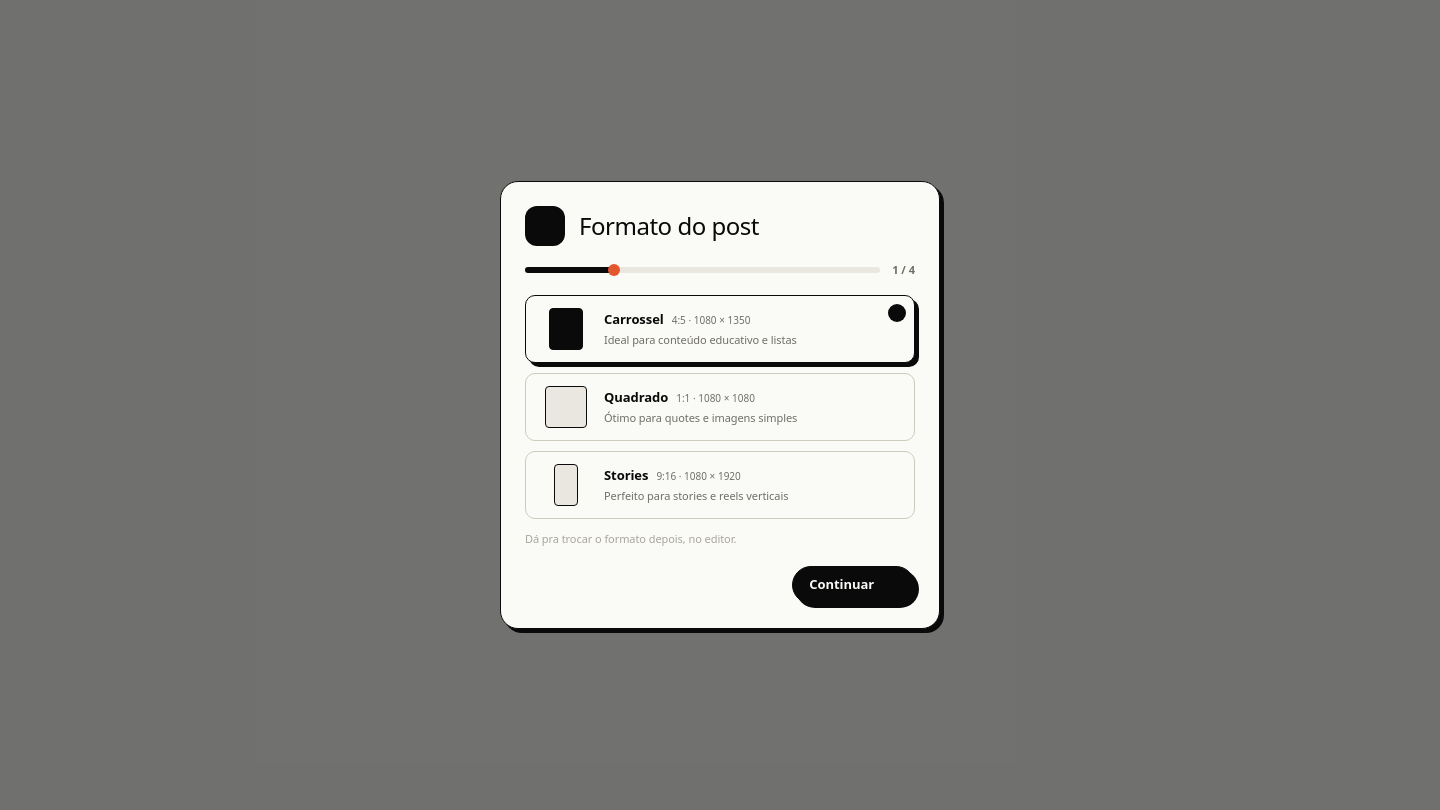
Scenario: TEMPLATE 2 no wizard › o Template 1 continua sem controle de quantidade — o deck dele é fechado
Click the button "Continuar" at (854, 585), box left=792, top=566, right=915, bottom=604
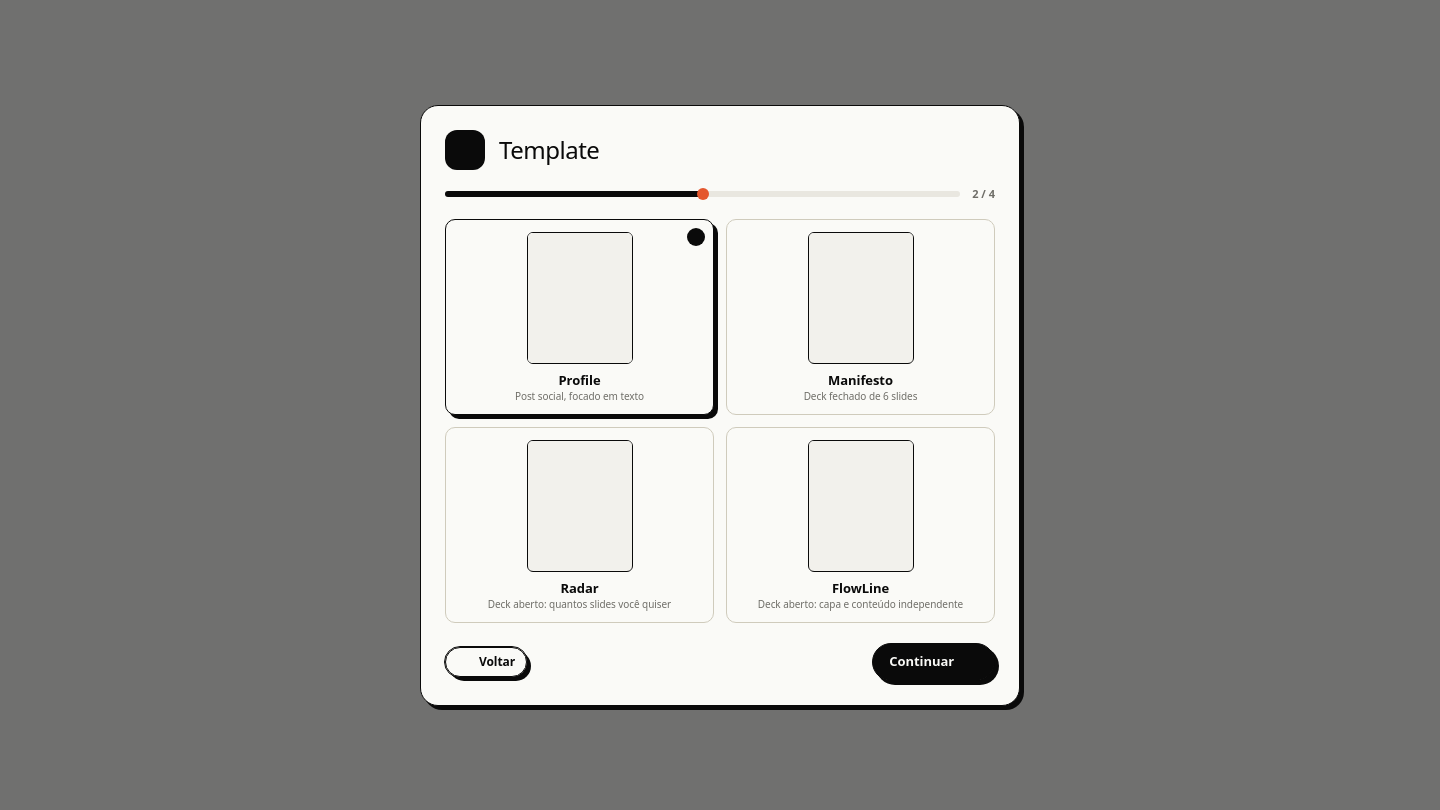
Click the text "Manifesto" at (861, 379), box left=828, top=370, right=893, bottom=388
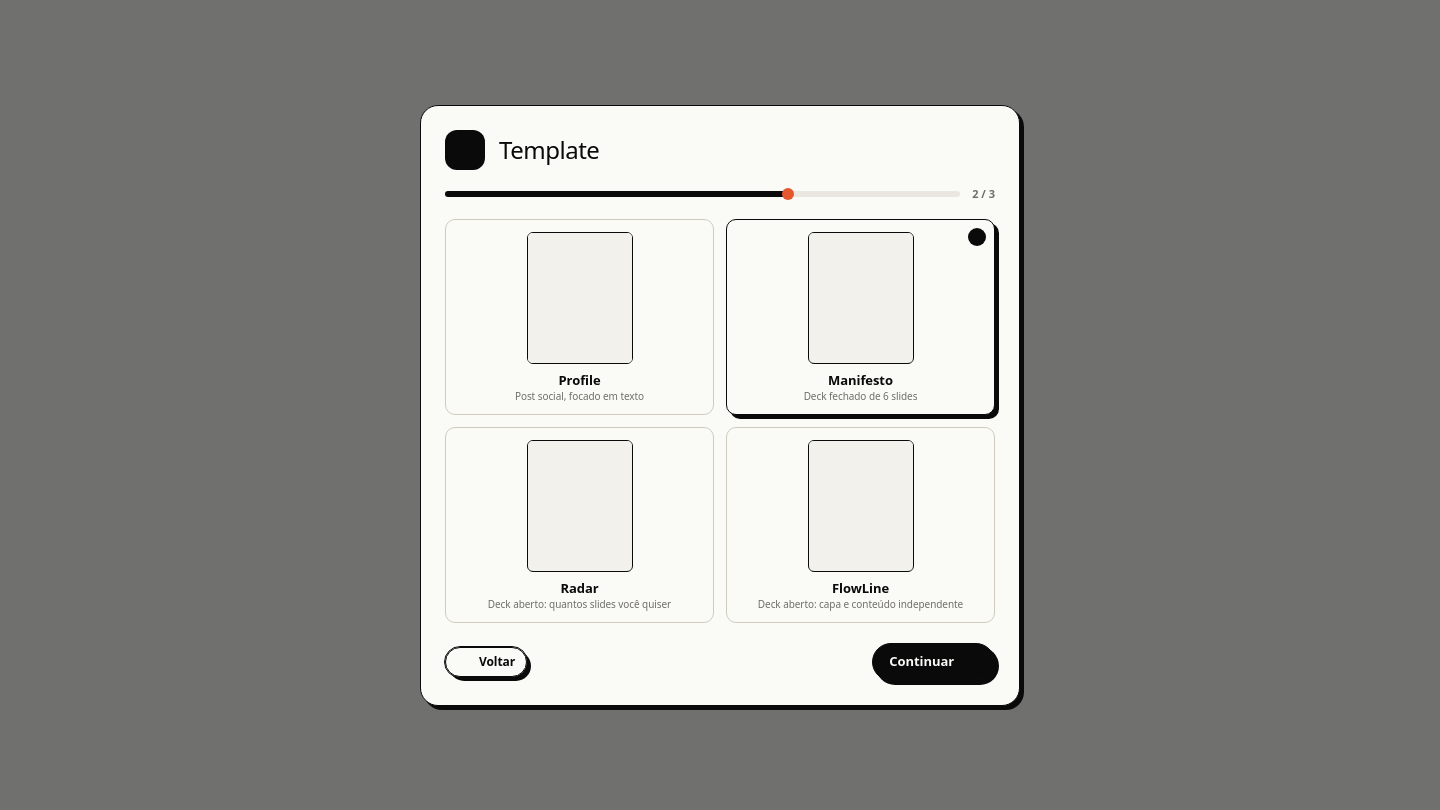
Click the button "Continuar" at (934, 661), box left=872, top=642, right=995, bottom=680
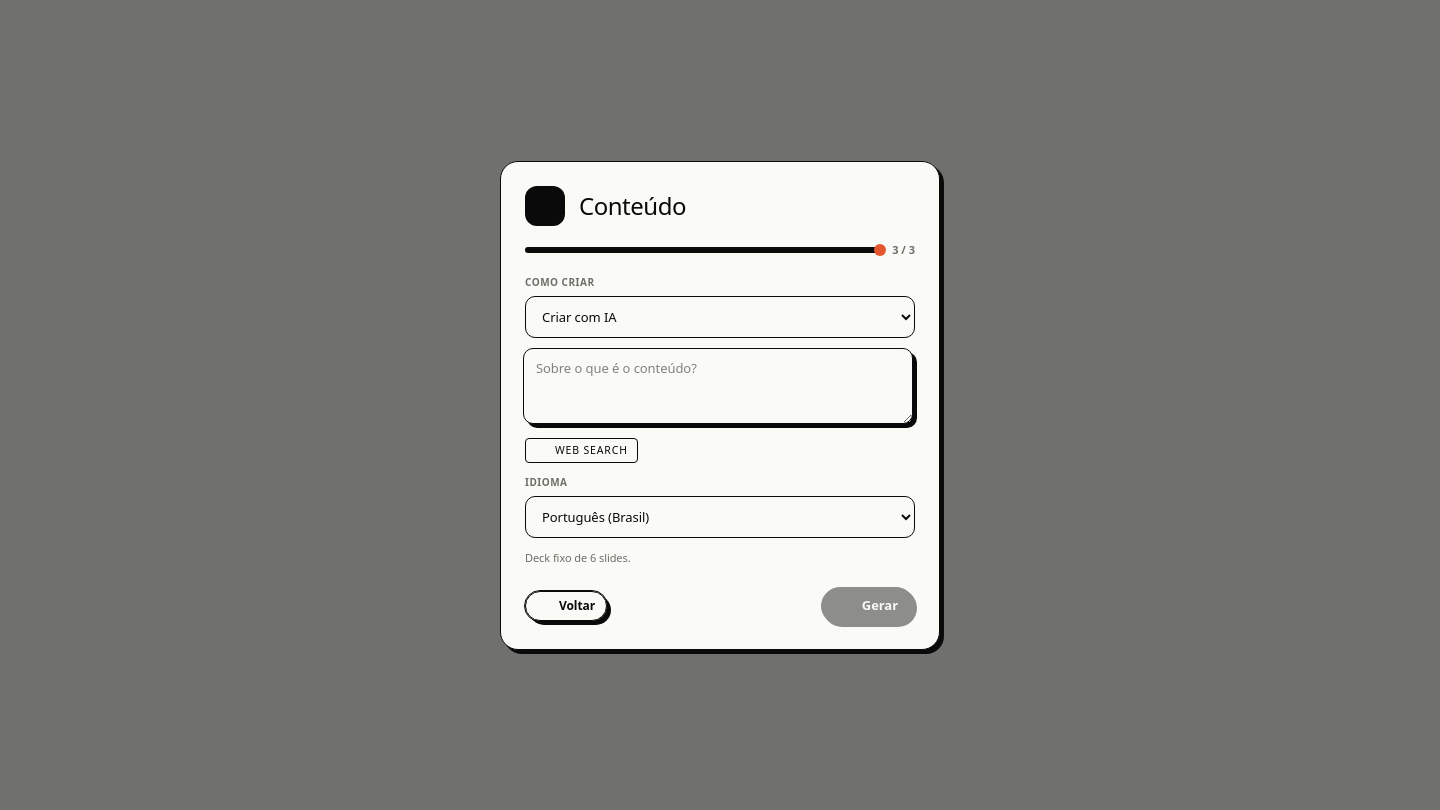
Check: the text "Deck fixo de 6 slides." is shown, box left=525, top=550, right=631, bottom=565
